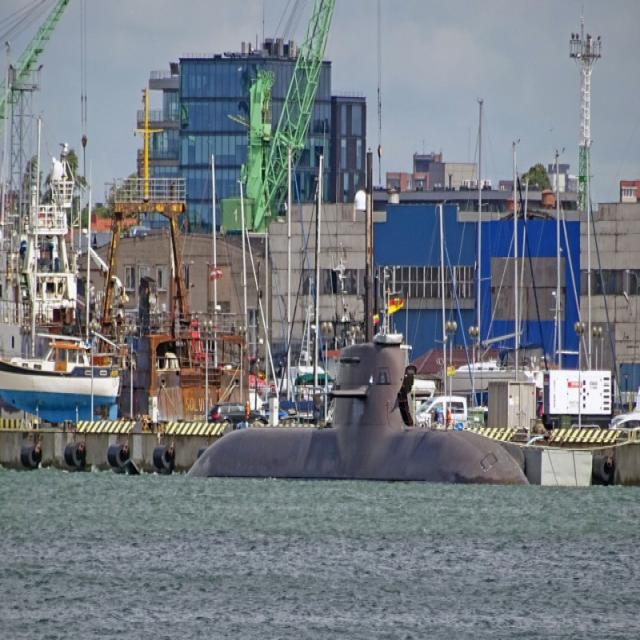submarine: (184, 342, 550, 478)
